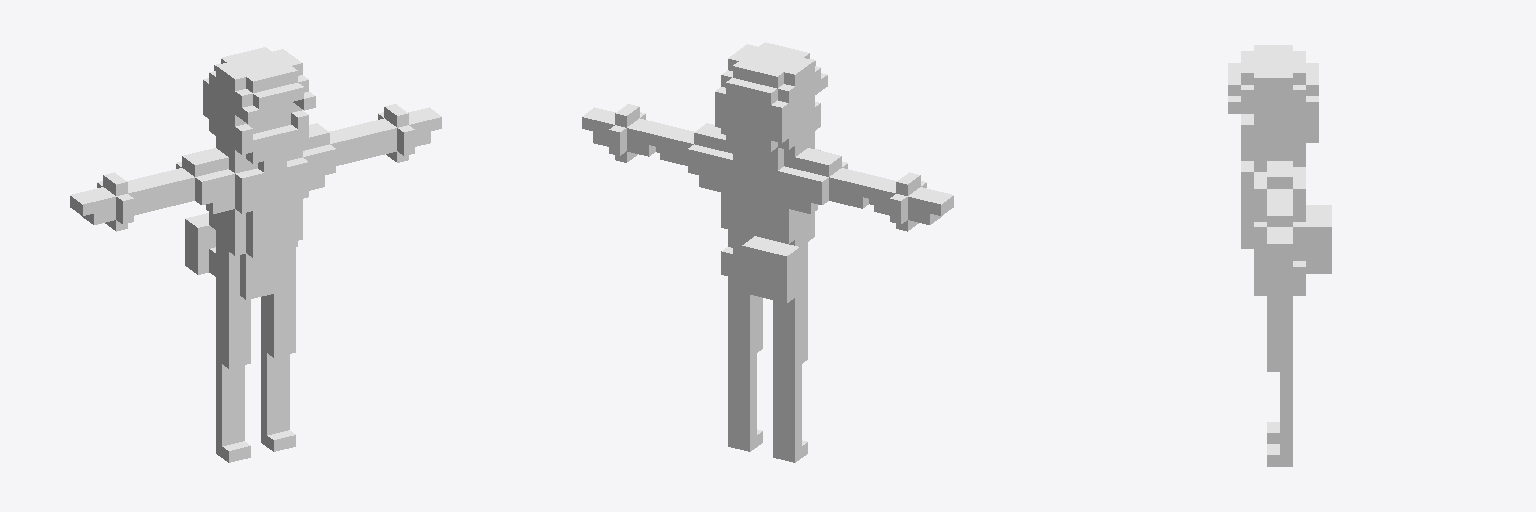
Rendered from Character11.obj.
3 renders of one model, left to right at view 1: azimuth 30°, elevation 25°; view 2: azimuth 150°, elevation 25°; view 3: azimuth 270°, elevation 25°, orthographic.
Visible parts, largest first — view 1: Character10_Mesh.010; view 2: Character10_Mesh.010; view 3: Character10_Mesh.010.
Part boxes in pixels (x1,y1,x2,y2): Character10_Mesh.010: (70, 47, 441, 462); Character10_Mesh.010: (582, 42, 953, 462); Character10_Mesh.010: (1228, 45, 1331, 466).
Size of the model in its own units: 12.15 by 12.53 by 3.04.